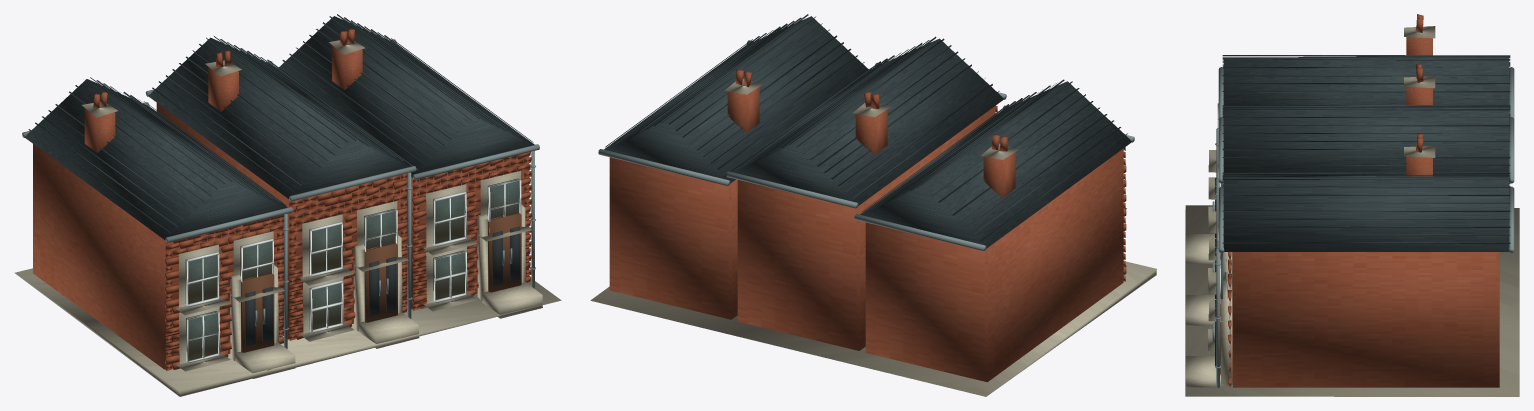
3 views of the same model, side by side, from view 1: azimuth 30°, elevation 25°; view 2: azimuth 150°, elevation 25°; view 3: azimuth 270°, elevation 25° (orthographic). The views are drawn at different scales.
Visible parts, largest first — view 1: residential_row__static_slate, residential_row__static_warm_brick, residential_row__static_limestone, residential_row__static_warm_glazing, residential_row__static_civic_pale_painted_trim, residential_row__static_patinated_metal, residential_row__door_02, residential_row__door_03, residential_row__door_01__recessed_entrance_leaf, residential_row__door_01__door_inset_panel, residential_row__door_01; view 2: residential_row__static_warm_brick, residential_row__static_slate, residential_row__static_limestone, residential_row__static_patinated_metal; view 3: residential_row__static_slate, residential_row__static_warm_brick, residential_row__static_limestone, residential_row__static_patinated_metal.
Boxes of the visible parts, box(x1,y1,x2,y2) form: residential_row__static_slate: box(24, 14, 534, 240); residential_row__static_warm_brick: box(33, 29, 531, 370); residential_row__static_limestone: box(14, 40, 561, 396); residential_row__static_warm_glazing: box(185, 178, 519, 360); residential_row__static_civic_pale_painted_trim: box(186, 179, 521, 363); residential_row__static_patinated_metal: box(22, 39, 539, 348); residential_row__door_02: box(364, 243, 397, 322); residential_row__door_03: box(488, 213, 521, 292); residential_row__door_01__recessed_entrance_leaf: box(241, 273, 274, 352); residential_row__door_01__door_inset_panel: box(245, 291, 255, 346); residential_row__door_01: box(262, 287, 272, 341); residential_row__static_warm_brick: box(609, 69, 1126, 382); residential_row__static_slate: box(604, 14, 1132, 248); residential_row__static_limestone: box(590, 78, 1156, 396); residential_row__static_patinated_metal: box(598, 40, 1134, 250); residential_row__static_slate: box(1222, 55, 1510, 251); residential_row__static_warm_brick: box(1228, 14, 1499, 387); residential_row__static_limestone: box(1185, 26, 1519, 396); residential_row__static_patinated_metal: box(1215, 67, 1514, 387).
Size of the model in its own units: 7.98 by 4.4 by 5.97.
Materials: 8 (4 with a texture image).
